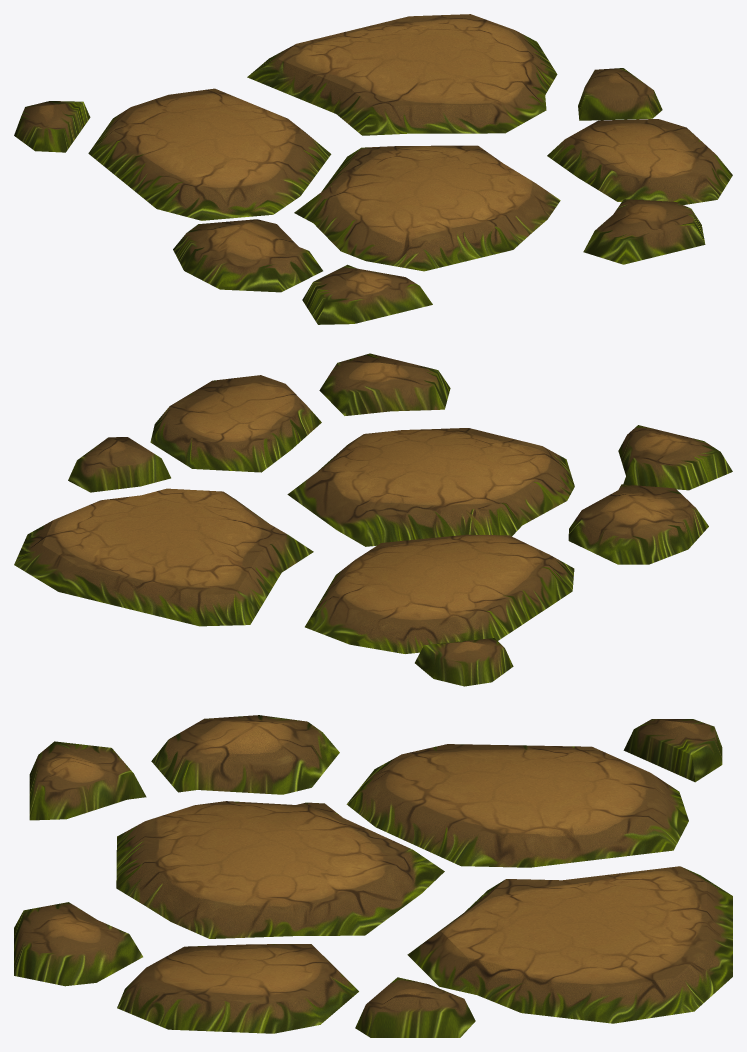
The model's file is SteppingStoneCluster5.fbx.
3 views of the same model, one above another, from view 1: azimuth 30°, elevation 25°; view 2: azimuth 150°, elevation 25°; view 3: azimuth 270°, elevation 25° (orthographic). The views are drawn at different scales.
Parts seen in each view (by area): view 1: Mesh; view 2: Mesh; view 3: Mesh.
Boxes of the visible parts, left/top/right/bottom form: Mesh: left=14, top=14, right=732, bottom=324; Mesh: left=14, top=353, right=732, bottom=686; Mesh: left=14, top=715, right=732, bottom=1037.
Bounding box in the file's own units: 324 × 20.18 × 321.
